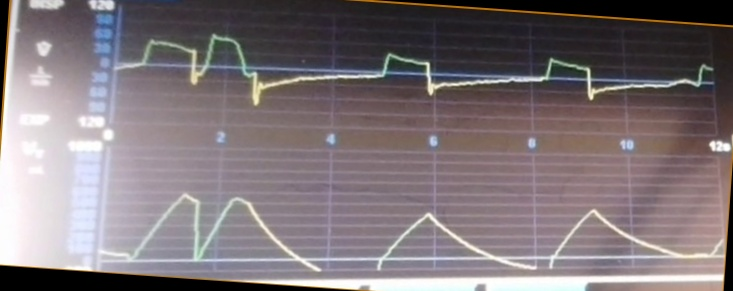Double_Triggering Flow: (123, 27, 713, 129)
Double_Triggering Volume: (108, 177, 722, 271)
